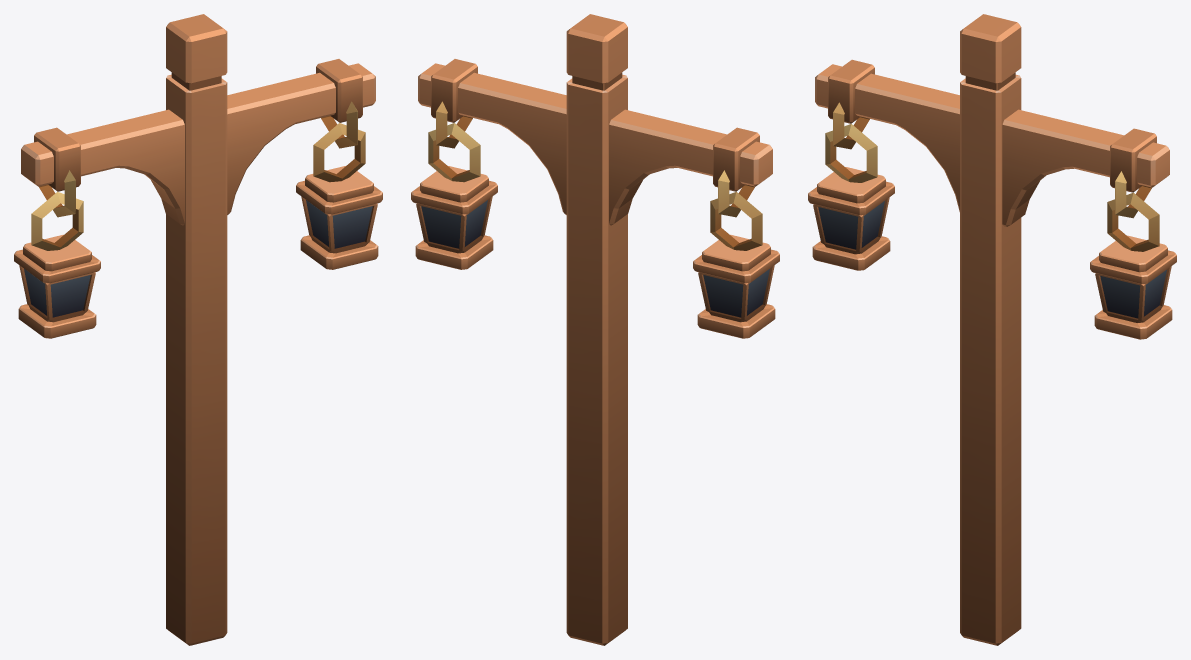
The model's file is mt_prop_slamp02.fbx.
3 views of the same model, side by side, from view 1: azimuth 30°, elevation 25°; view 2: azimuth 150°, elevation 25°; view 3: azimuth 330°, elevation 25° (orthographic).
Visible parts, largest first — view 1: prop_slamp02; view 2: prop_slamp02; view 3: prop_slamp02.
Boxes of the visible parts, left/top/right/bottom form: prop_slamp02: left=14, top=14, right=382, bottom=645; prop_slamp02: left=411, top=14, right=779, bottom=645; prop_slamp02: left=808, top=14, right=1176, bottom=645.
Size of the model in its own units: 196 by 336 by 36.6.
